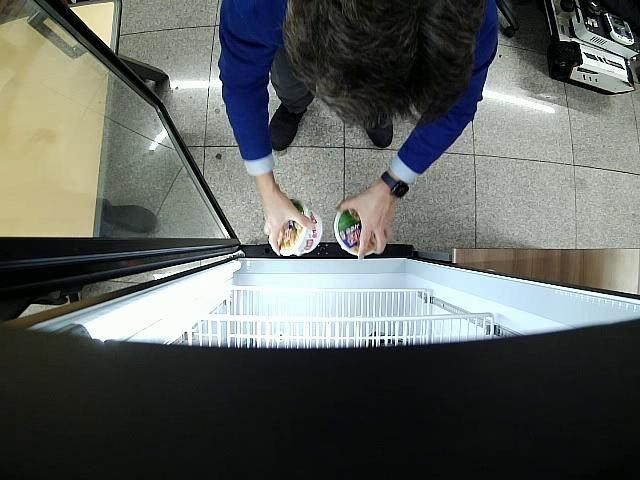09_yukGaeJang: (278, 199, 323, 255), (334, 209, 376, 256)
